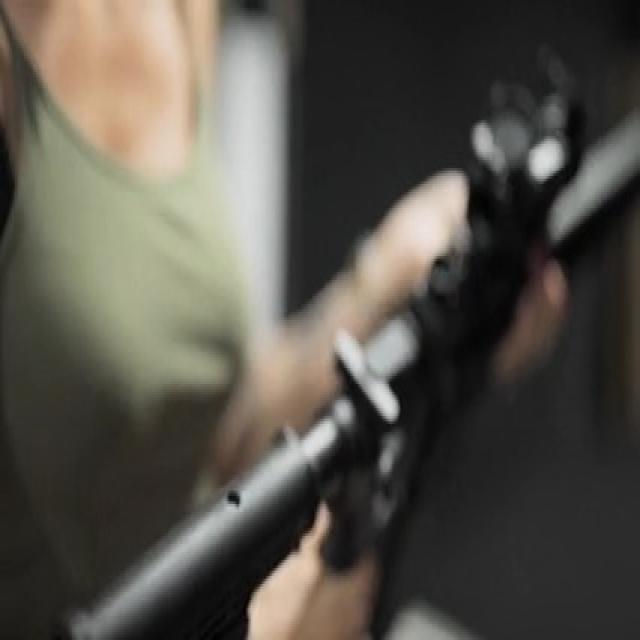Gun_Holder: (71, 3, 639, 640)
